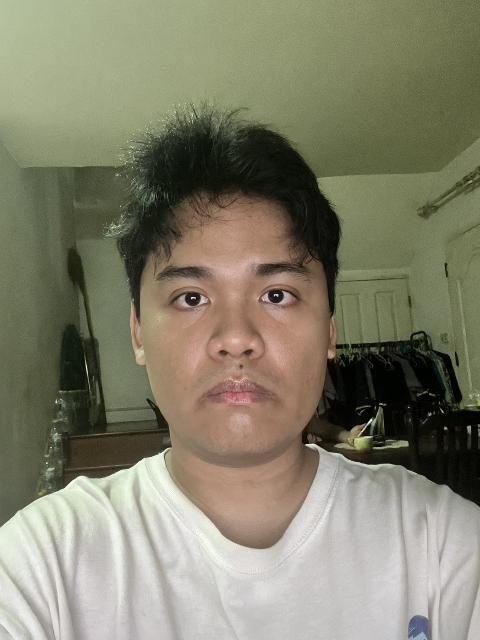fokus: (127, 150, 335, 461)
